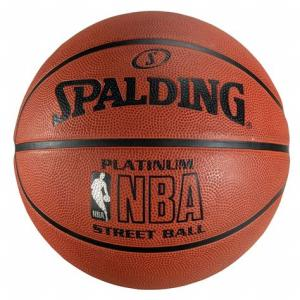Basket: (13, 10, 290, 290)
